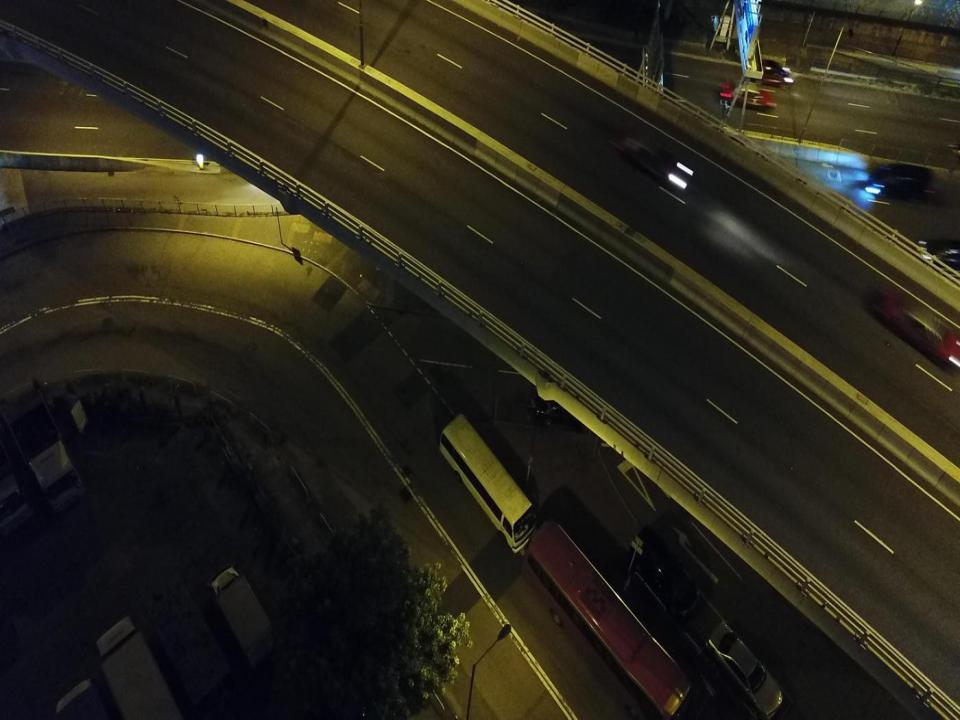bus: (523, 517, 699, 719), (440, 411, 538, 555)
car: (706, 620, 783, 719), (876, 288, 955, 382), (622, 132, 694, 192), (717, 80, 776, 112), (744, 58, 794, 88), (917, 240, 956, 268)
truck: (141, 573, 236, 710), (2, 386, 86, 515), (95, 615, 185, 719), (206, 562, 276, 665), (0, 437, 34, 537)
van: (629, 522, 700, 616), (527, 381, 603, 433), (868, 162, 932, 202)
